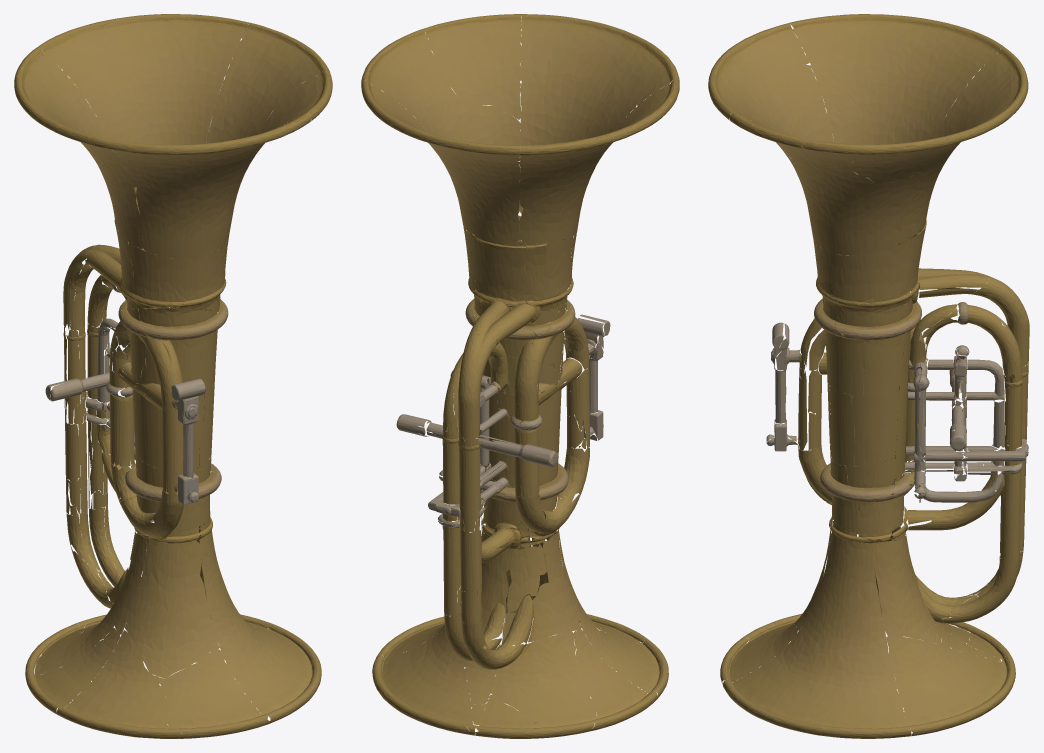
The model's file is sousaphone.glb.
3 renders of one model, left to right at view 1: azimuth 30°, elevation 25°; view 2: azimuth 150°, elevation 25°; view 3: azimuth 270°, elevation 25°, orthographic.
Visible parts, largest first — view 1: world; view 2: world; view 3: world.
Boxes of the visible parts, x1,y1,x2,y2 form: world: (14,14,332,738); world: (361,14,679,738); world: (708,14,1029,738).
Size of the model in its own units: 0.4822 by 0.9999 by 0.4869.
1 material, 1 textured.
